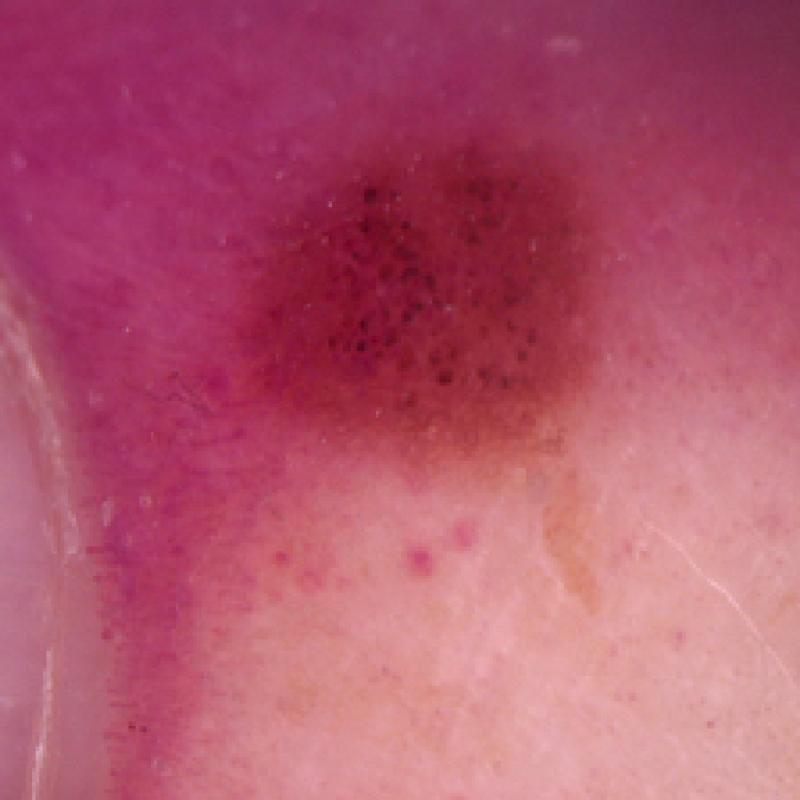benign: (153, 96, 698, 558)
